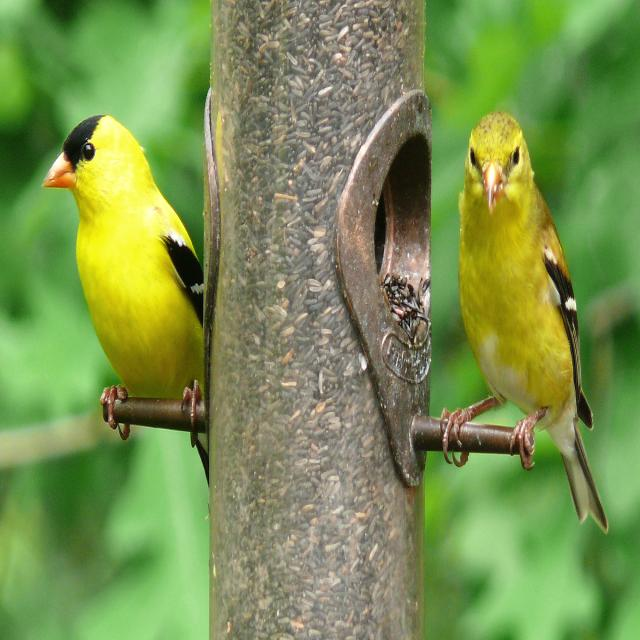bird: (453, 96, 614, 542), (44, 108, 216, 425)
